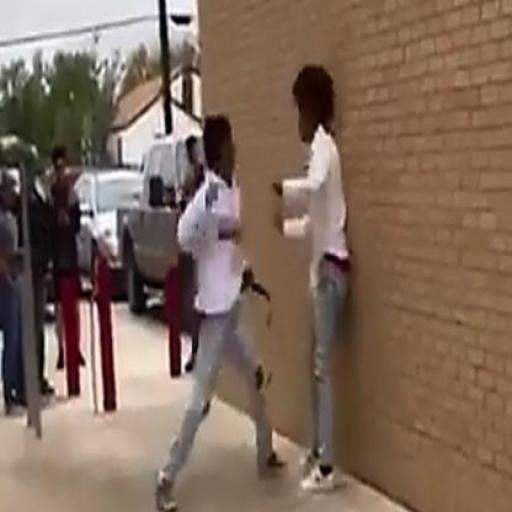Fighting: (154, 62, 357, 512)
